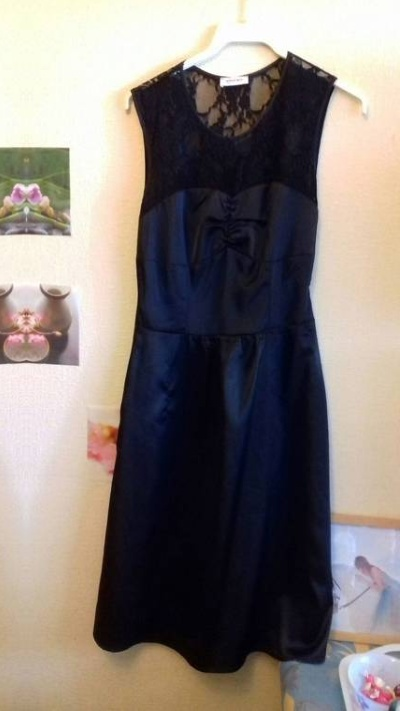Dress: (60, 27, 359, 679)
